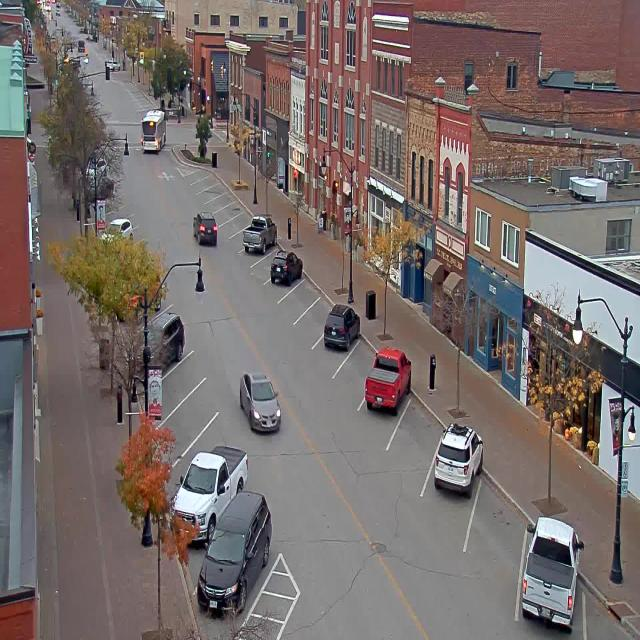available: (457, 498, 533, 588), (384, 408, 432, 478), (158, 378, 222, 428), (583, 591, 640, 640), (159, 348, 214, 388), (332, 345, 370, 396), (168, 410, 231, 440), (293, 302, 333, 334), (281, 280, 320, 305), (247, 254, 271, 288), (222, 213, 255, 231), (215, 200, 243, 217), (206, 192, 236, 207), (200, 182, 227, 194), (190, 173, 218, 184), (188, 166, 209, 179)
occupied: (196, 489, 272, 617), (170, 444, 248, 548), (521, 515, 584, 630), (434, 421, 484, 497), (364, 346, 412, 414), (144, 307, 185, 366), (323, 303, 360, 351), (242, 214, 277, 254), (270, 249, 303, 286)
